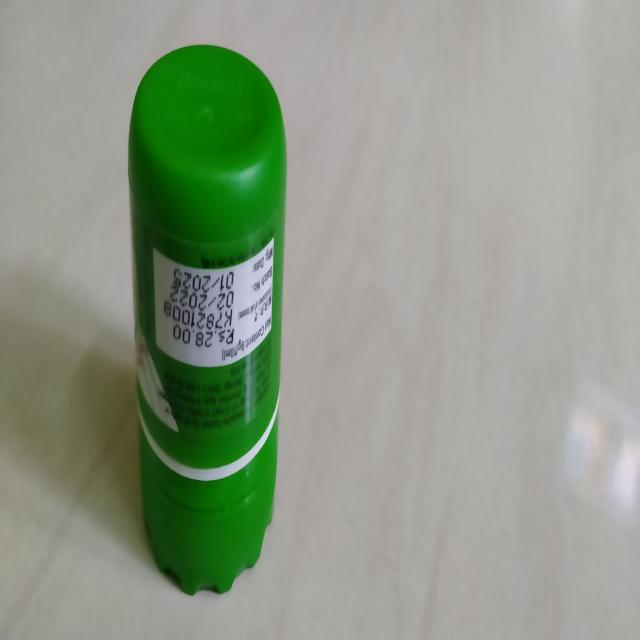eucalyptus oil: (120, 31, 288, 604)
